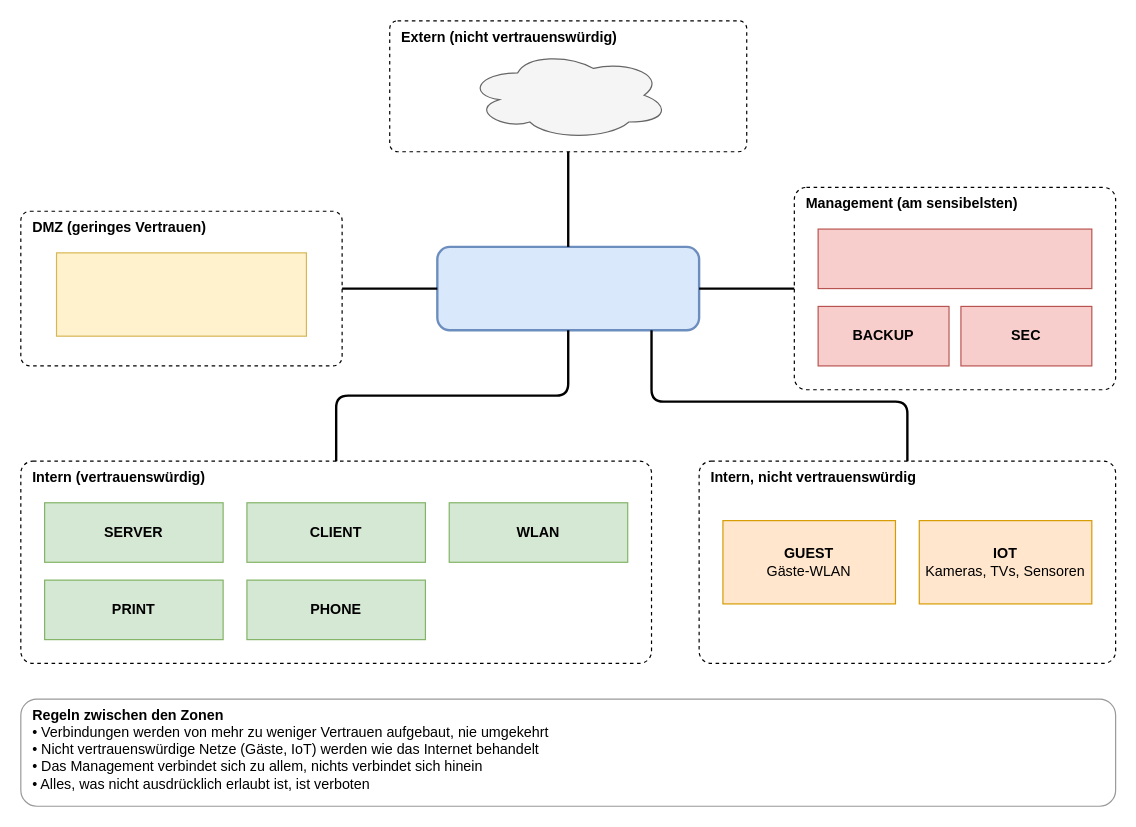
Image size: 1136x827. Some labels were removed from this diagram. The shapes that lost their labels are listed below. From the top down, each one's centre as x and y in pixels, then its label:
At [567,94]: "Internet, ISP, Partnernetze".
At [954,258]: "MGMT".
At [180,294]: "DMZ Reverse Proxy, Mail-Relay, VPN-Gateway".
At [568,288]: "Firewall (oder HA-Cluster) Default Deny zwischen den Zonen".
